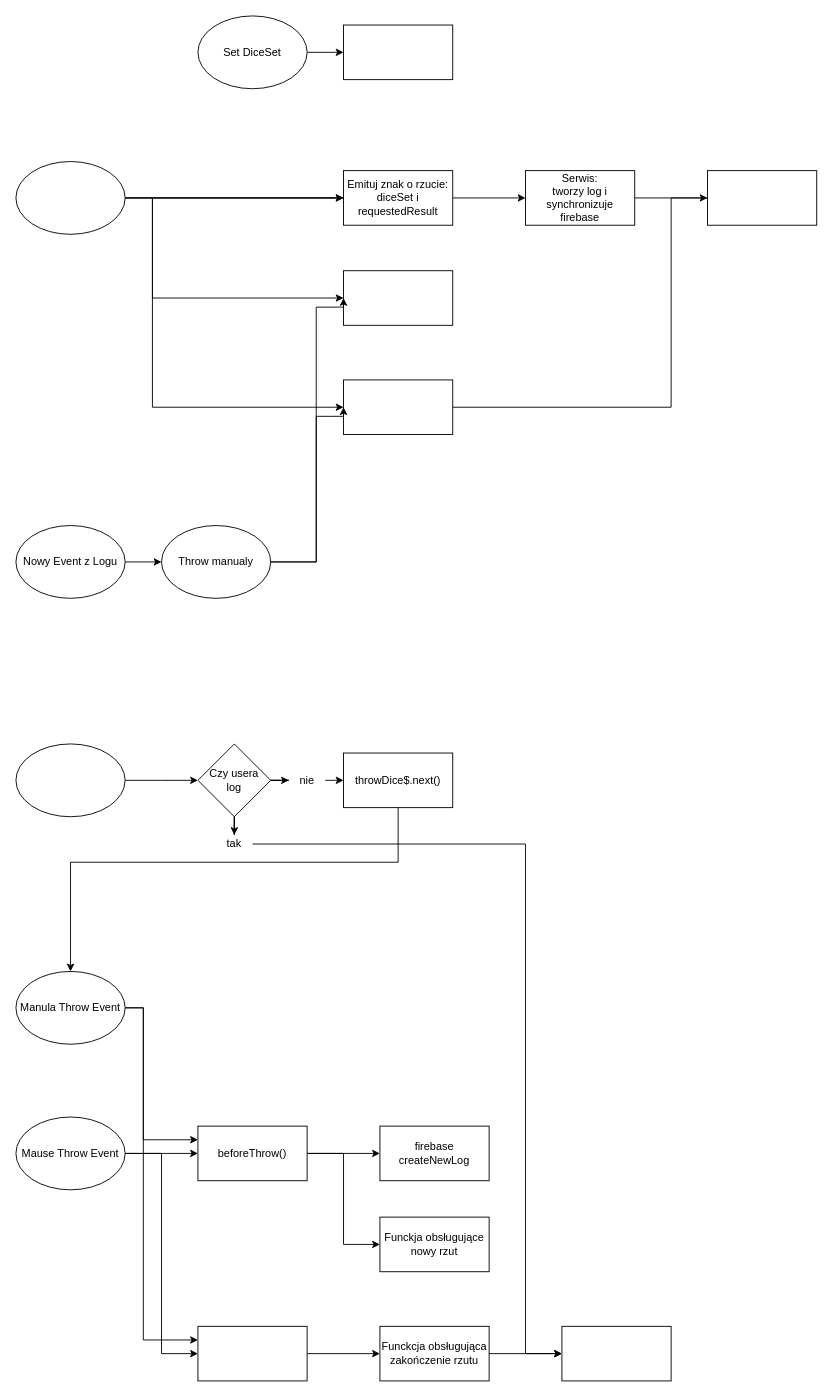
This 833x1397 diagram has some shape labels left out. The box of each missing label's shape, as (x1, y1, x2, y2) in pixels:
afterThrow: (197, 1325, 307, 1381)
Event from Redux Log: (15, 743, 125, 817)
Generuj wynik ustaw w main.js: (343, 24, 453, 80)
Pokazuje wynik na ekranie: (707, 170, 817, 225)
Throw listener: (15, 161, 125, 234)
Ustawia flagę rzutu: (343, 270, 453, 325)
Ustawia flagę zakończenia rzutu: (343, 379, 453, 435)
